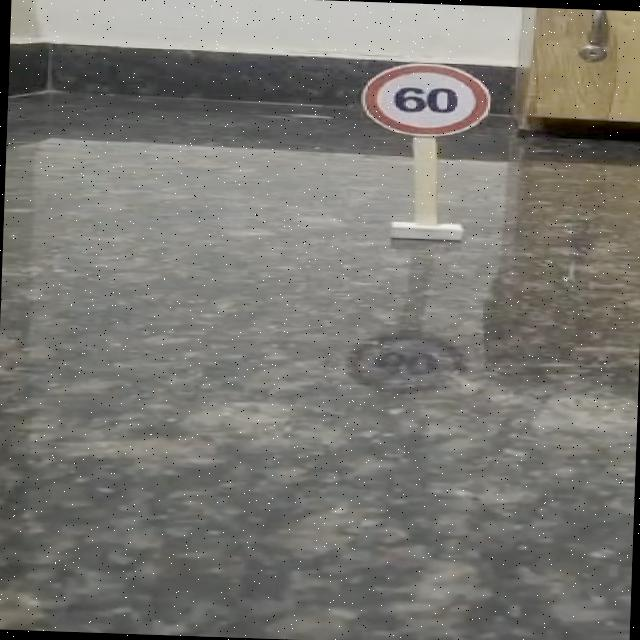Speed60: (338, 49, 502, 144)
